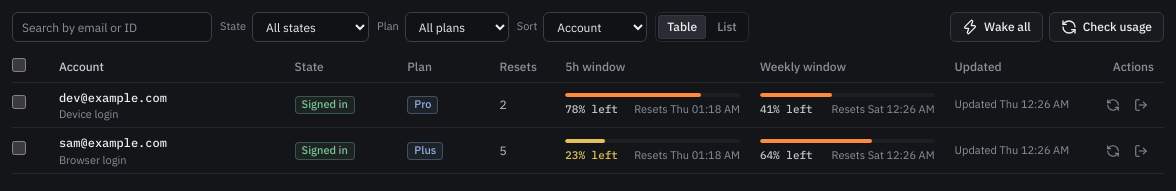
Scenario: CodexAccountsPane › scopes the toolbar actions to the selection
This screenshot has width=1176, height=191.
Check: the button "Wake all" is shown, box [950, 12, 1043, 42]
Check: the button "Remove" is not shown
Step 1. Click the checkbox named "Select dev@example.com" → [19, 102], box [12, 95, 26, 109]
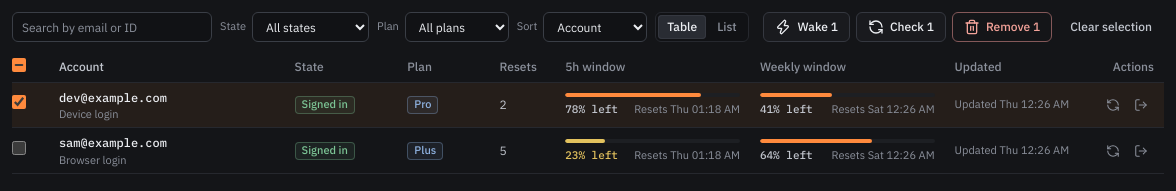
Check: the button "Wake 1" is shown, box [764, 12, 850, 42]
Check: the button "Check 1" is shown, box [856, 12, 946, 42]
Check: the button "Remove 1" is shown, box [952, 12, 1052, 42]
// Select-all flips in the remaining visible row and both checkboxes know.
Step 2. Click the checkbox named "Select all accounts" → [19, 64], box [12, 58, 26, 72]
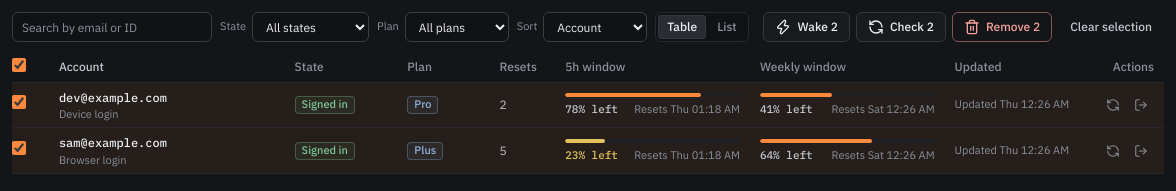
Check: the button "Wake 2" is shown, box [764, 12, 850, 42]
Check: the button "Remove 2" is shown, box [952, 12, 1052, 42]
Check: the checkbox named "Select sam@example.com" is checked, box [12, 141, 26, 155]
Step 3. Click the button "Clear selection" → [1111, 27], box [1058, 12, 1164, 42]
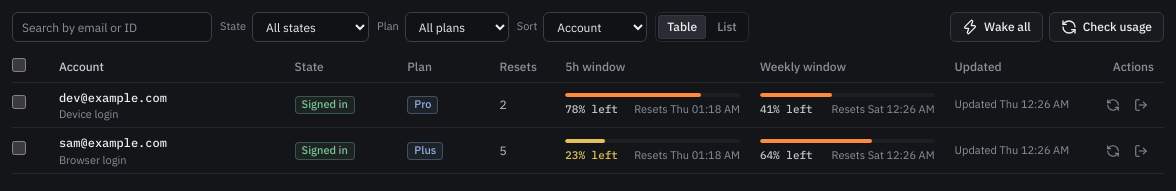
Check: the button "Wake all" is shown, box [950, 12, 1043, 42]
Check: the button "Remove" is gone
